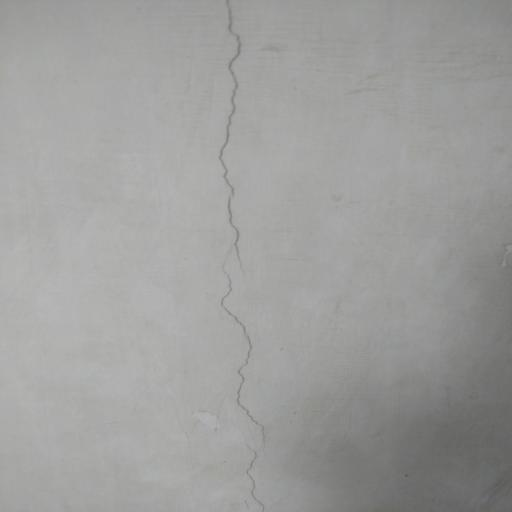minor_crack: (208, 0, 285, 512)
